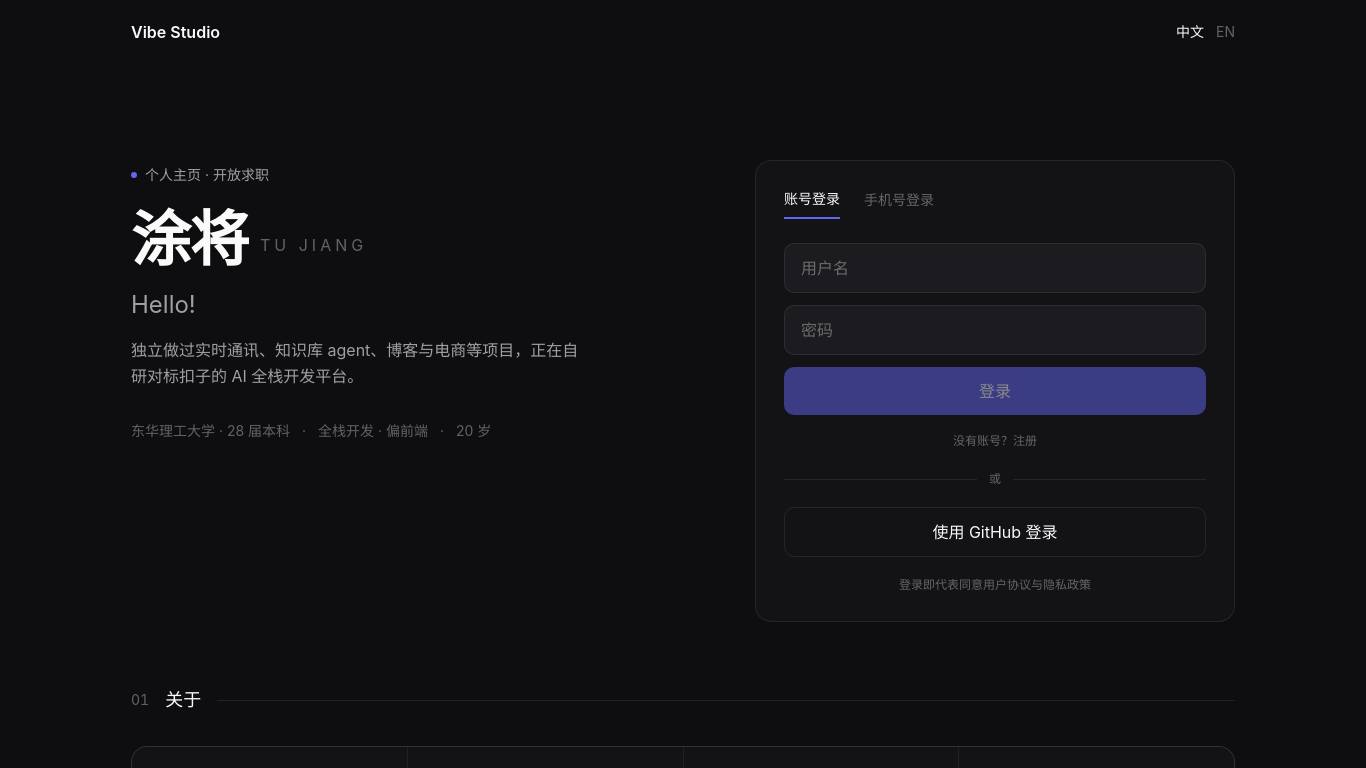
登录面板可切换到手机号 tab
Click the button "手机号登录" at [899, 204], box [864,189,934,219]
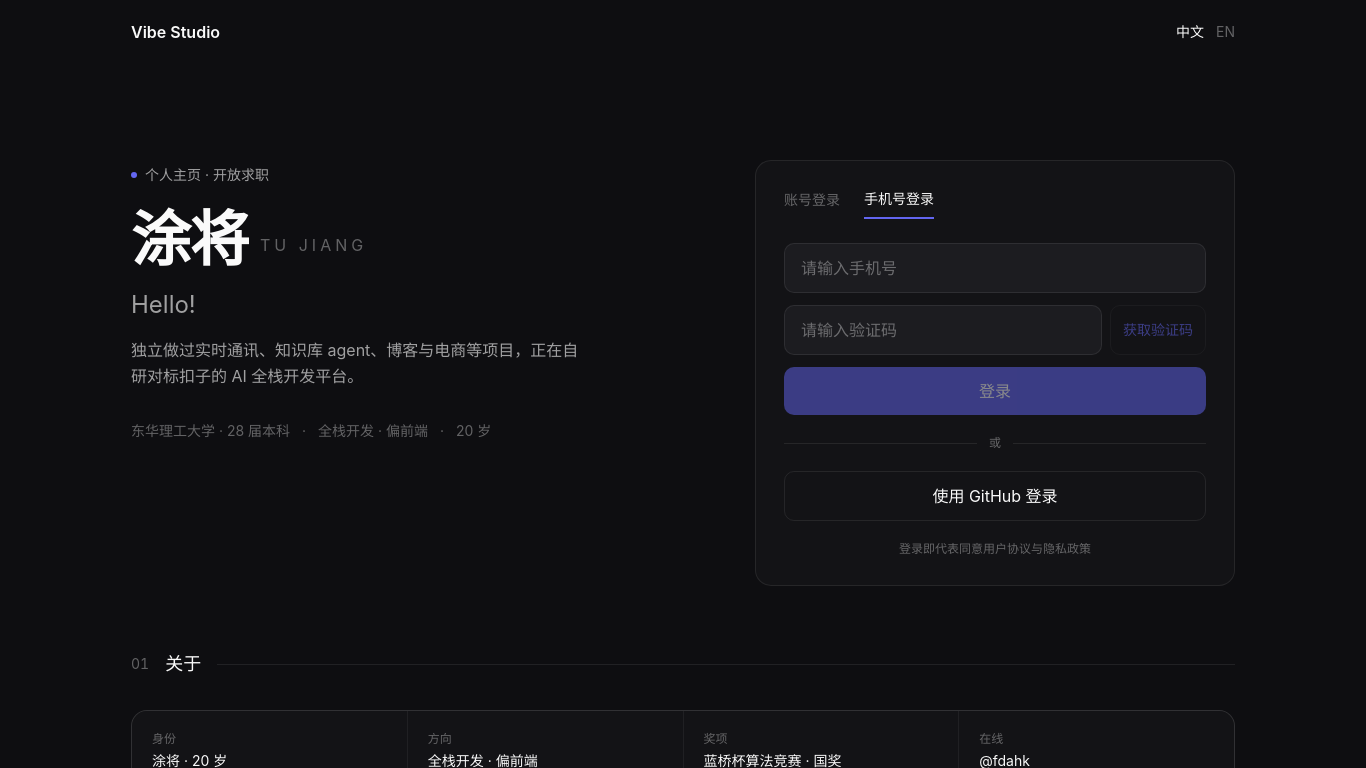
Expected: the field with placeholder "请输入手机号" is shown, [784,243,1206,293]
